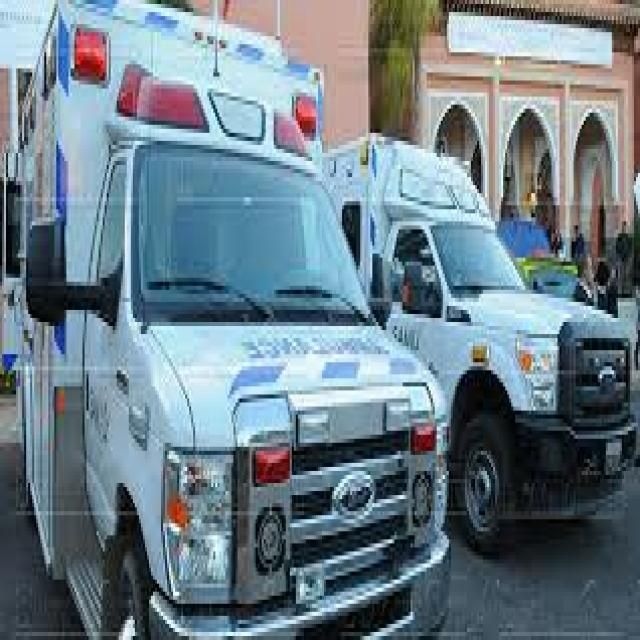ambulance: (9, 3, 467, 640), (322, 87, 640, 560)
